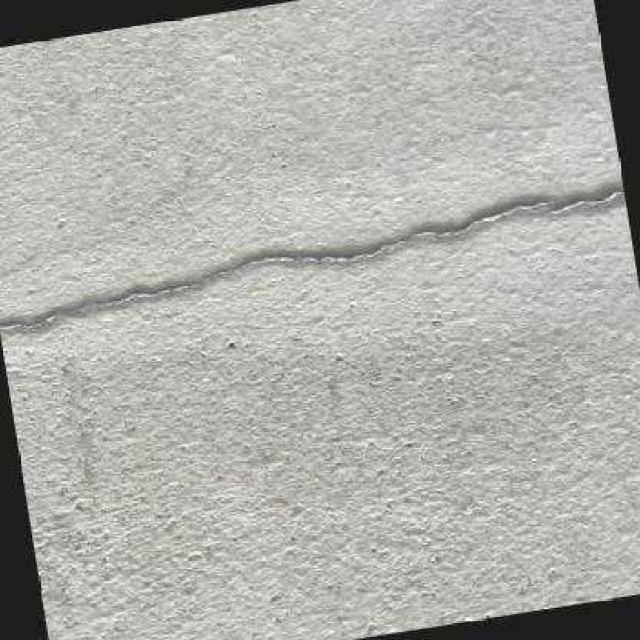D00: (0, 201, 552, 329), (550, 191, 624, 214)
